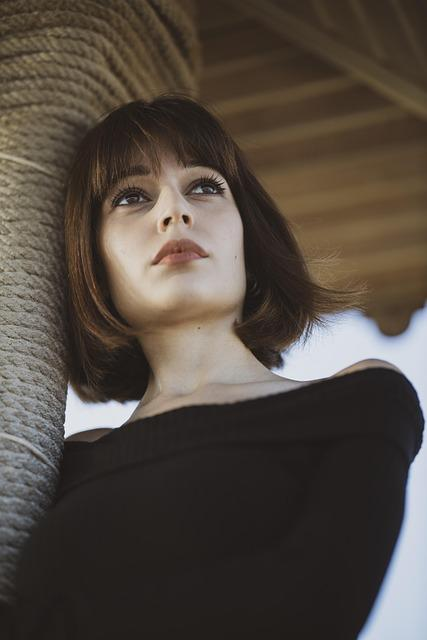Non_Gorille: (3, 50, 427, 640)
